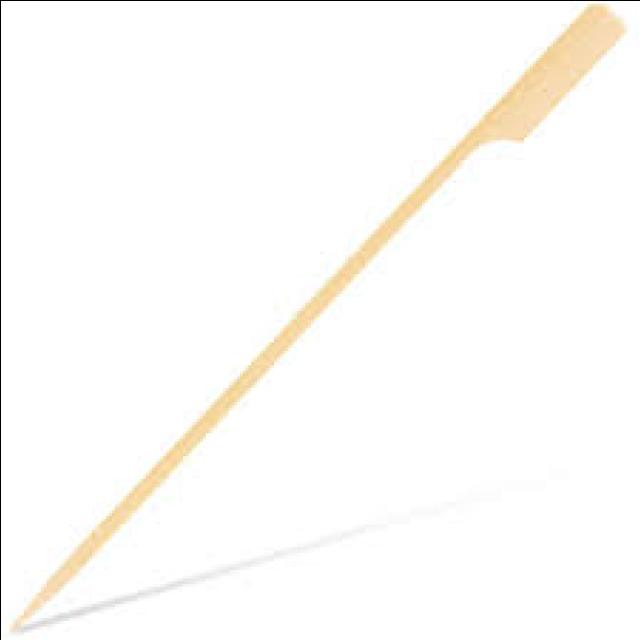stick: (15, 5, 622, 628)
